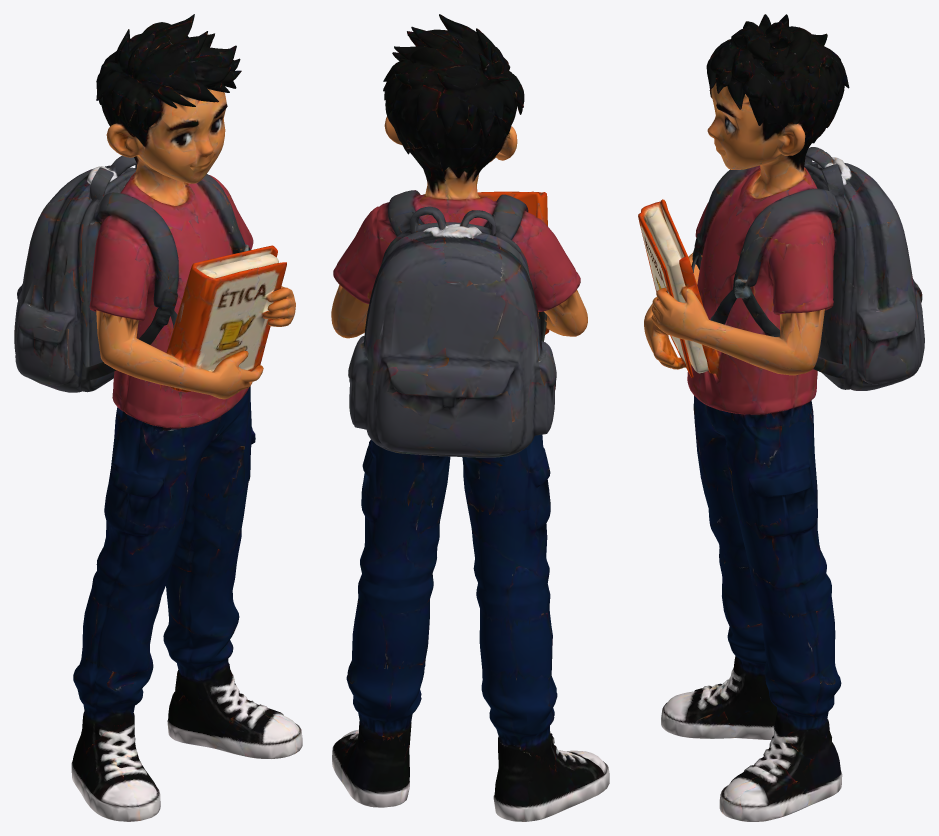
The picture shows the model from 3 angles, left to right: view 1: azimuth 30°, elevation 25°; view 2: azimuth 150°, elevation 25°; view 3: azimuth 270°, elevation 25°; orthographic projection. The views are drawn at different scales.
Parts seen in each view (by area): view 1: geometry_0; view 2: geometry_0; view 3: geometry_0.
Part boxes in pixels (box(x1,y1,x2,y2)): geometry_0: box(14, 14, 302, 821); geometry_0: box(331, 14, 609, 821); geometry_0: box(638, 14, 924, 821).
Size of the model in its own units: 0.4277 by 1.24 by 0.4331.
Materials: 1 (1 with a texture image).
